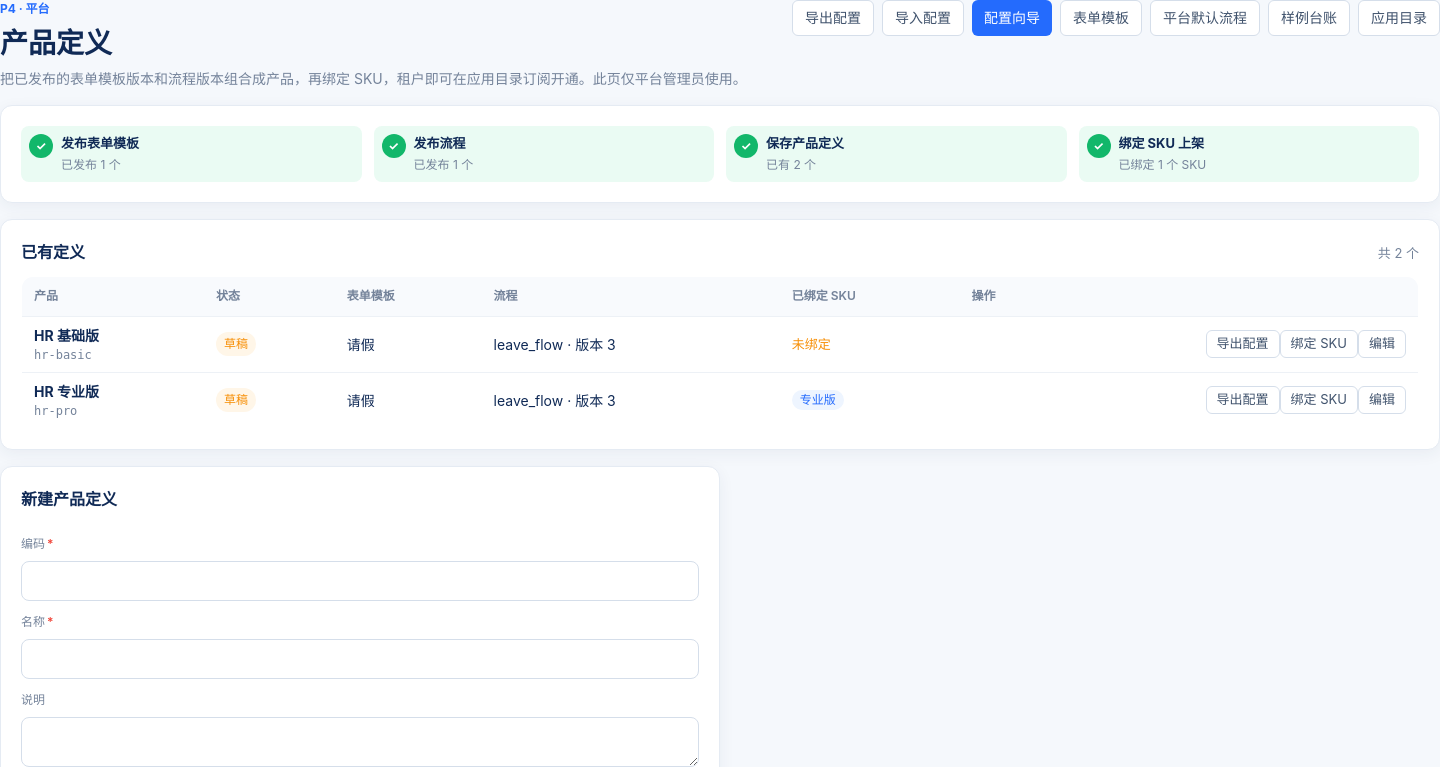
Scenario: product definition binding page › binds a SKU, warns before rebinding, and shows the result
Expected: the table with test id "product-definition-list" shows "专业版", 800,392 -> 836,407
Click the button with test id "bind-open-hr-basic". click: (1319, 344)
box: 1280,330 -> 1358,358
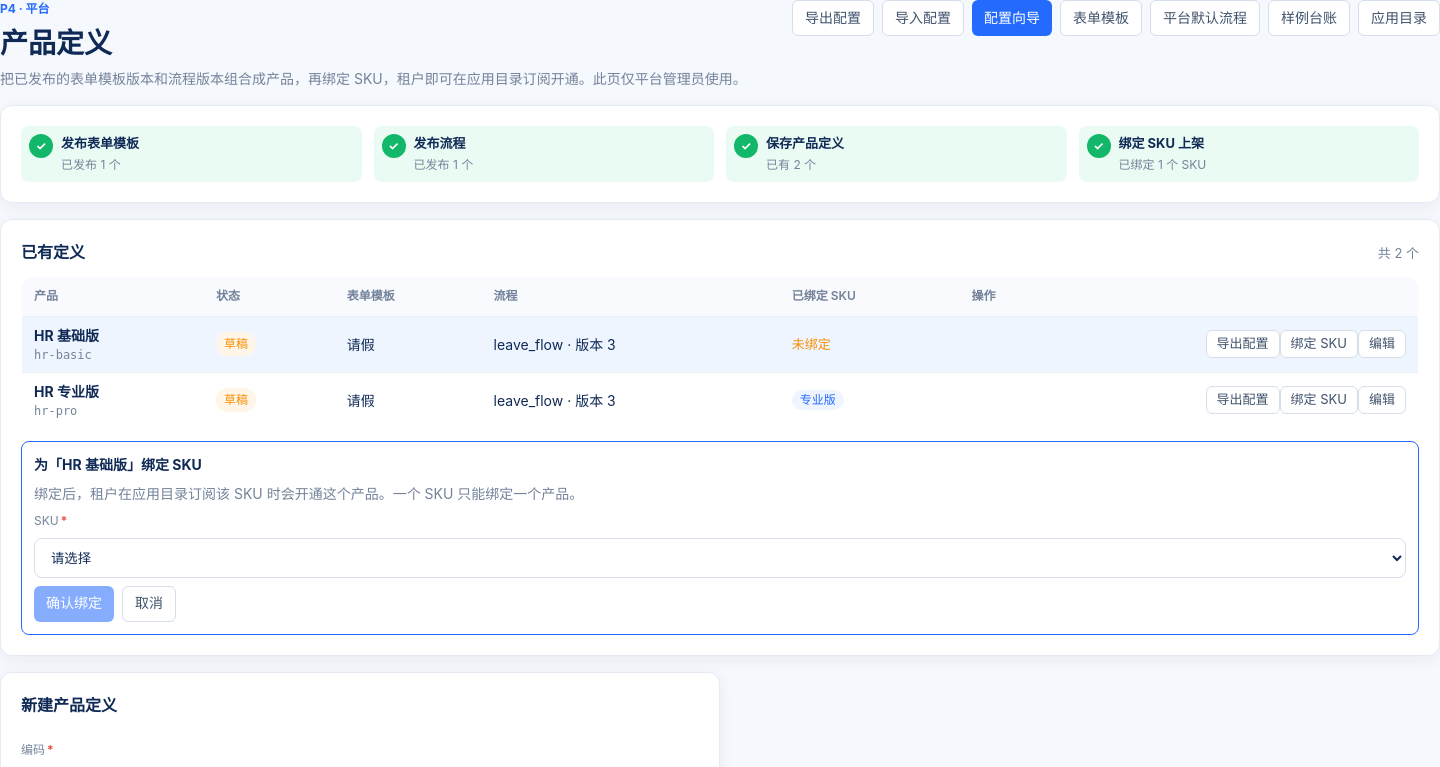
Select "专业版（hr.pro）" in the dropdown with test id "bind-sku". click: (720, 558)
box: 34,538 -> 1406,578
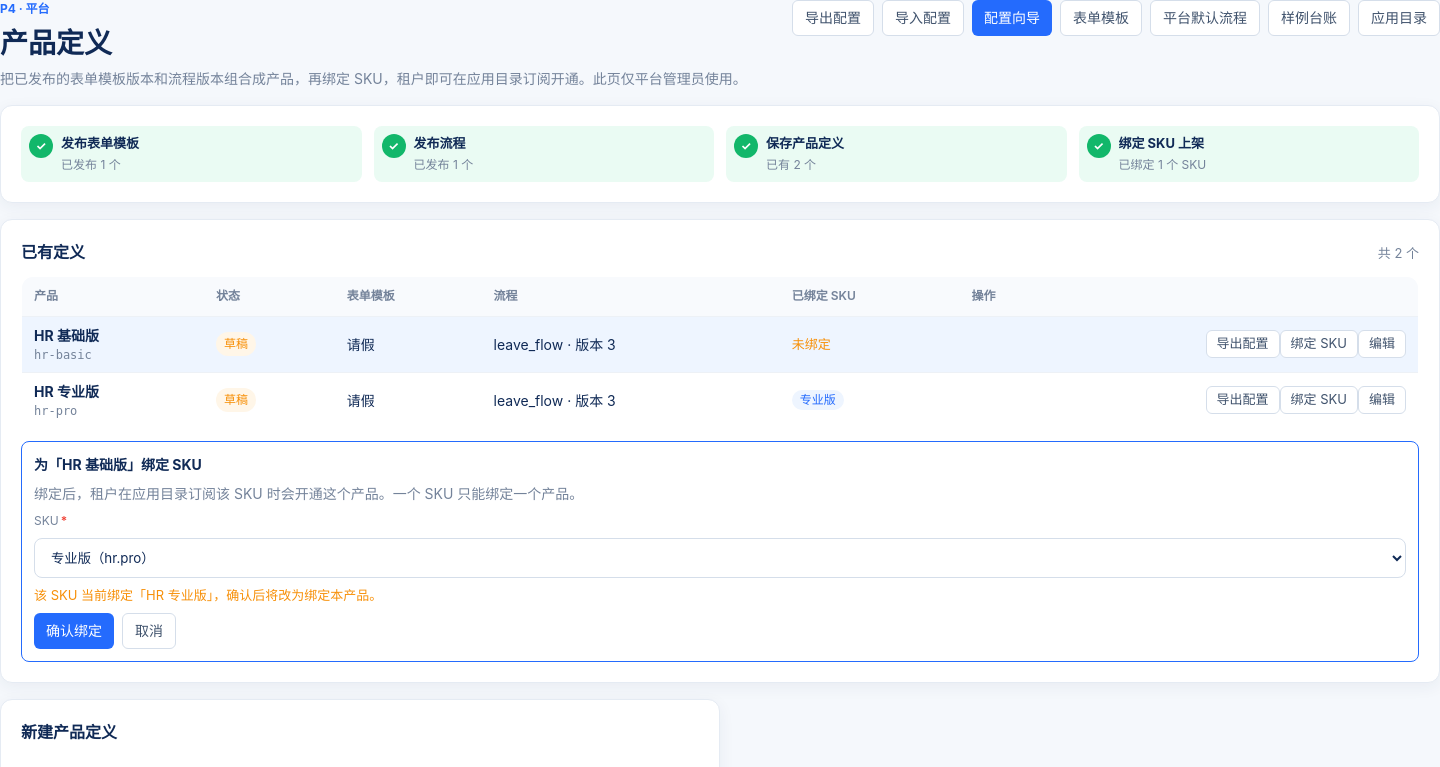
Expected: the text with test id "bind-rebind-warning" shows "HR 专业版", 34,586 -> 382,602
Select "标准版（hr.std）" in the dropdown with test id "bind-sku". click: (720, 558)
box: 34,538 -> 1406,578
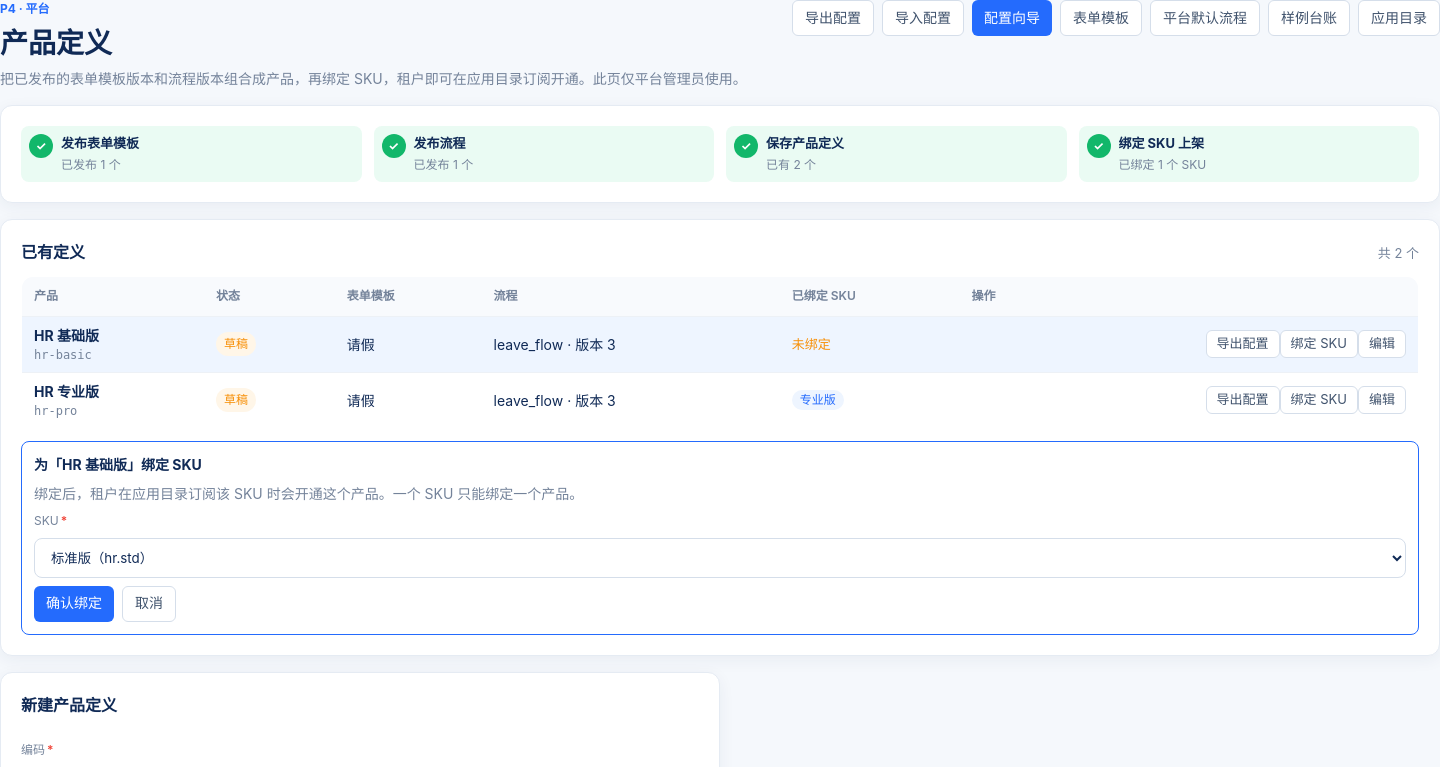
Submit the form with test id "bind-panel", box 21,440 -> 1419,634
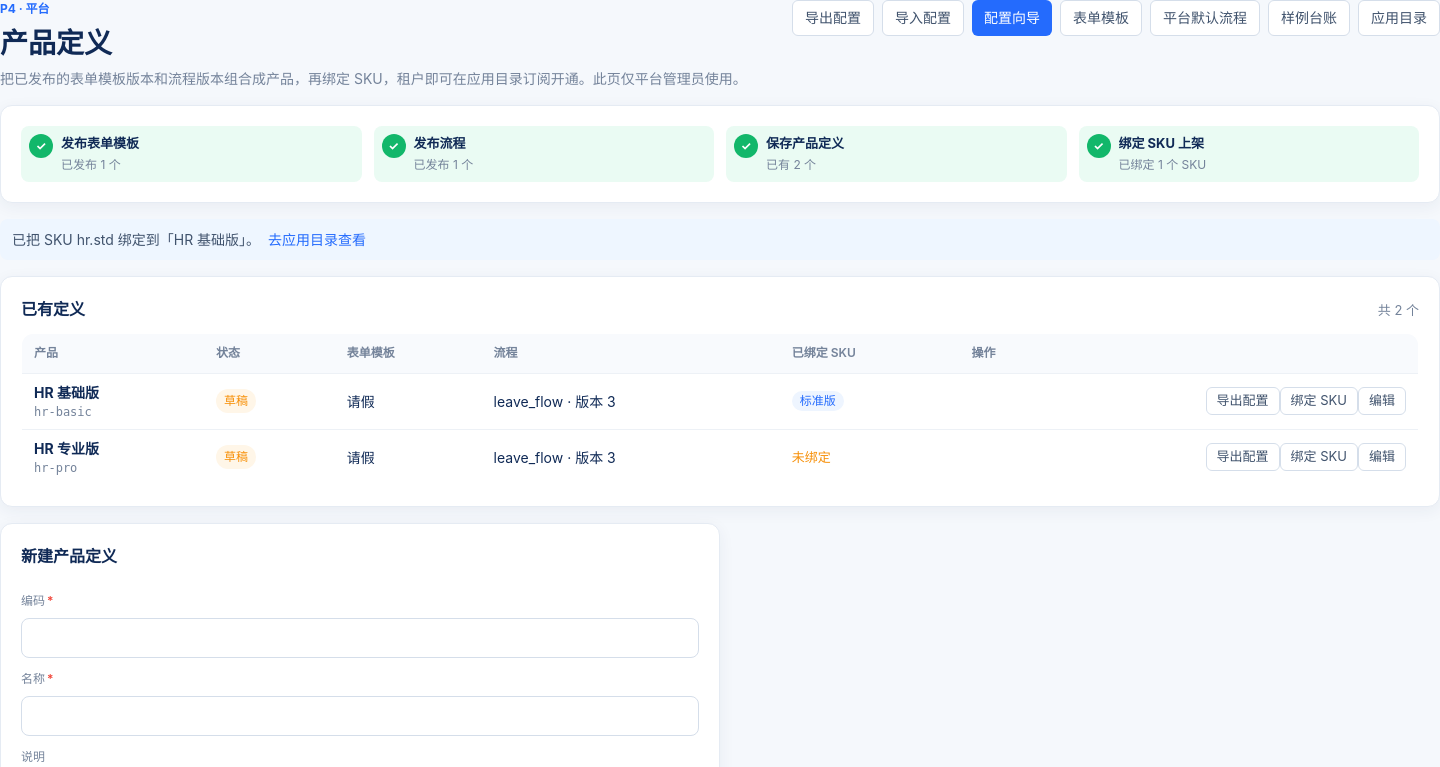
Expected: the message with test id "binding-notice" shows "已把 SKU hr.std 绑定到「HR 基础版」", 12,230 -> 260,248
